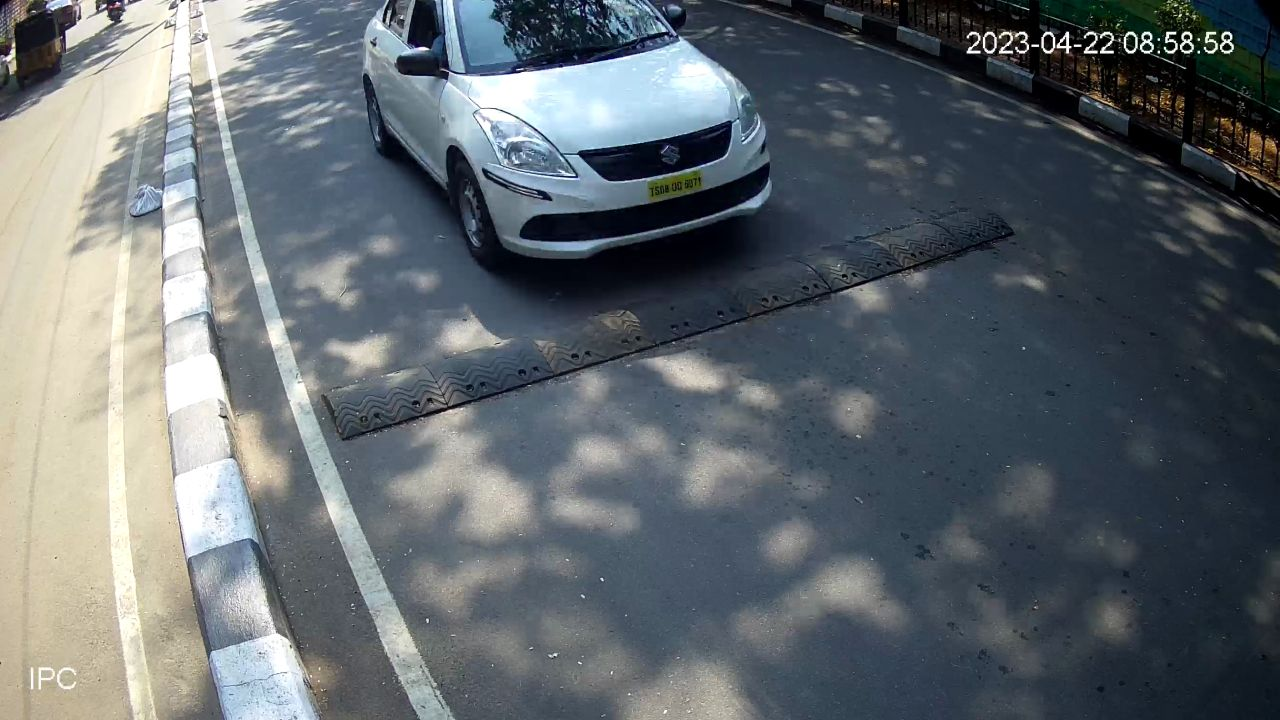license_plate: (644, 164, 705, 210)
